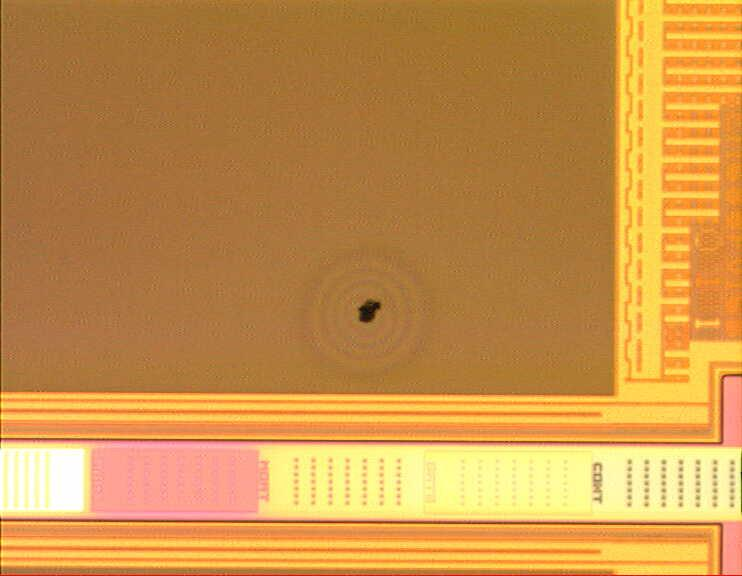PIQ PARTICLE: (353, 296, 389, 332)
